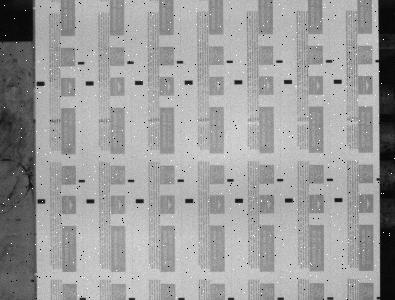backgroundclutter: (31, 279, 35, 282)
incorrect qblock: (375, 59, 379, 63), (376, 296, 381, 299), (376, 178, 380, 181)
qblock: (185, 198, 194, 203), (36, 81, 45, 86), (184, 80, 193, 85), (37, 199, 46, 204), (333, 79, 342, 84), (235, 198, 243, 203), (135, 80, 143, 85), (284, 79, 292, 84), (86, 81, 94, 86), (334, 198, 343, 202), (234, 80, 243, 84), (136, 199, 144, 203), (285, 198, 293, 202), (86, 199, 94, 203)
smallqblock: (78, 61, 85, 65), (128, 296, 135, 300), (78, 296, 85, 300), (227, 296, 234, 300), (177, 296, 184, 300), (177, 60, 184, 64), (277, 178, 284, 182), (277, 297, 284, 300), (327, 297, 334, 300), (127, 61, 134, 64), (276, 60, 283, 63), (226, 60, 233, 63), (326, 178, 333, 181), (227, 179, 234, 182), (78, 179, 85, 182), (128, 179, 135, 182), (177, 179, 184, 182), (326, 59, 332, 62)
